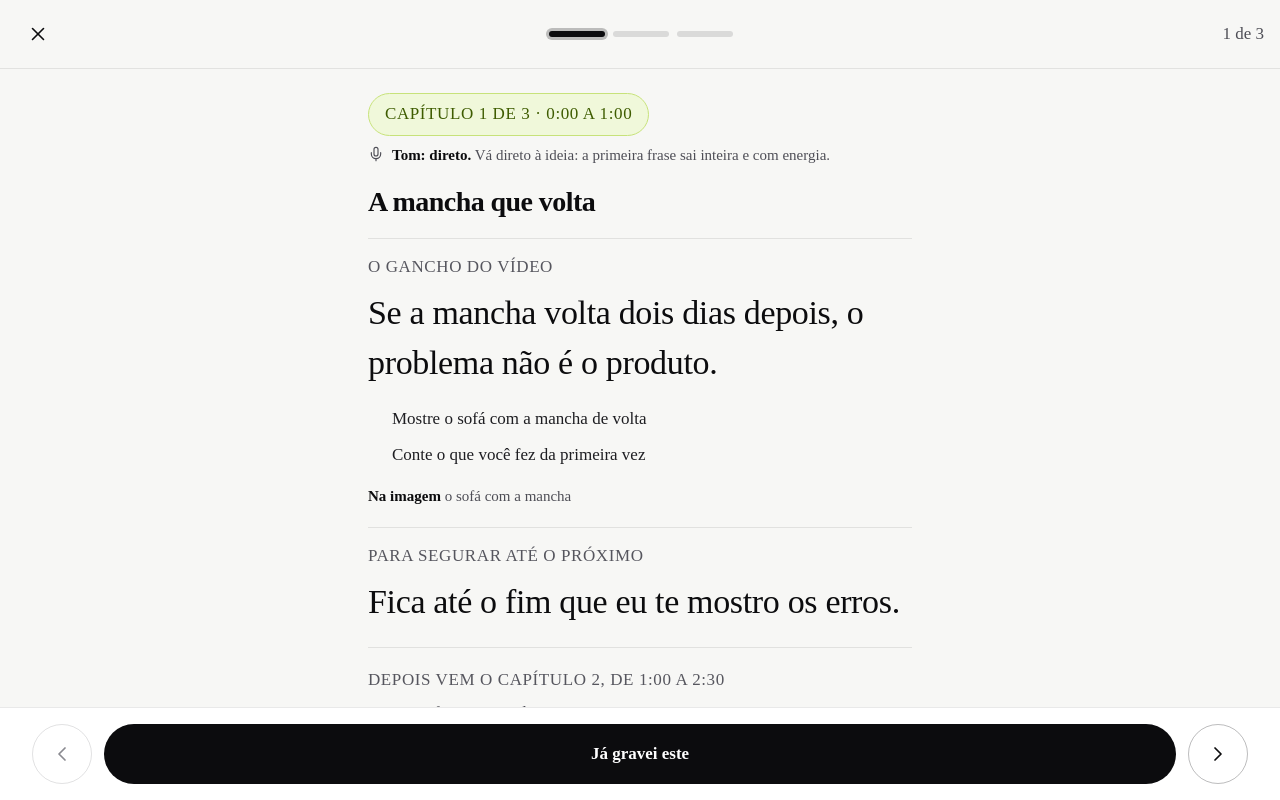
Test: GravacaoLongaTela › 'Já gravei este' passa ao capítulo seguinte ao da vez, não ao primeiro que falta desde o começo
Expected: the element that starts with "Capítulo 1 de 3 · 0:00 a 1:00" is shown, x1=385 y1=104 x2=632 y2=123
# passa o 1 sem marcar, marca o 2: segue para o 3, e o 1 só volta depois
Click the button named "Próximo capítulo, sem marcar". click: (1218, 754)
box: x1=1188 y1=724 x2=1248 y2=784
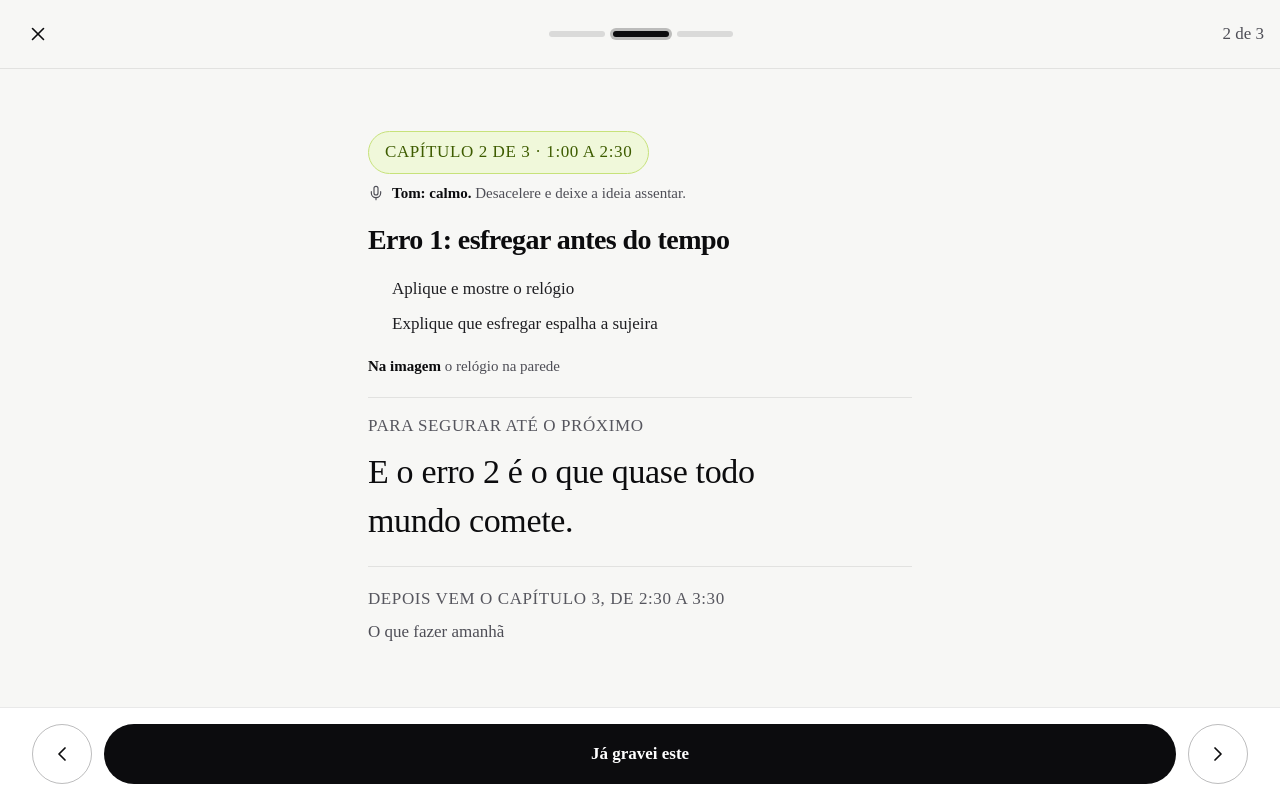
Result: the element that starts with "Capítulo 2 de 3 · 1:00 a 2:30" is shown at x1=385 y1=142 x2=632 y2=161
Click the button "Já gravei este". click: (640, 754)
box: x1=104 y1=724 x2=1176 y2=784
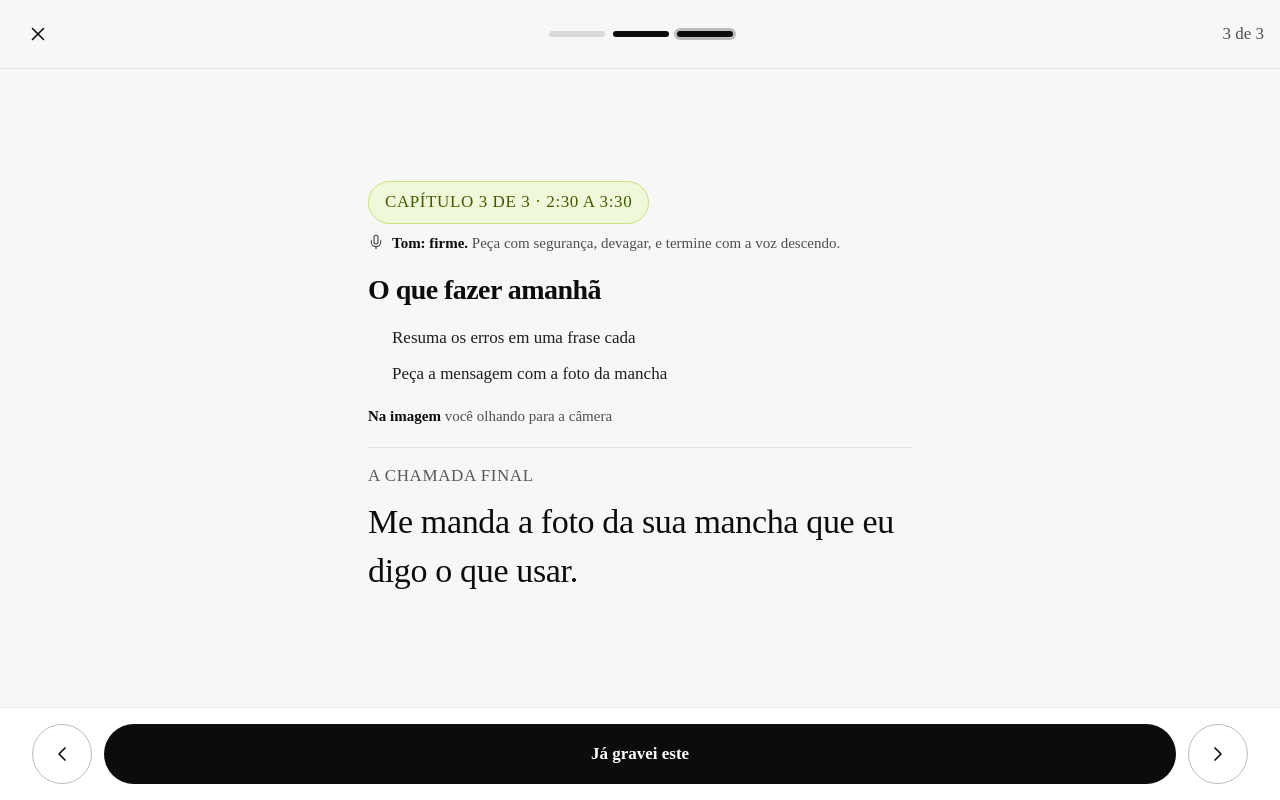
Result: the element that starts with "Capítulo 3 de 3 · 2:30 a 3:30" is shown at x1=385 y1=192 x2=632 y2=211
